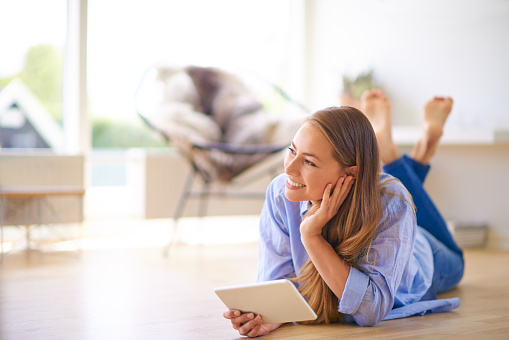deitado: (239, 88, 453, 318)
